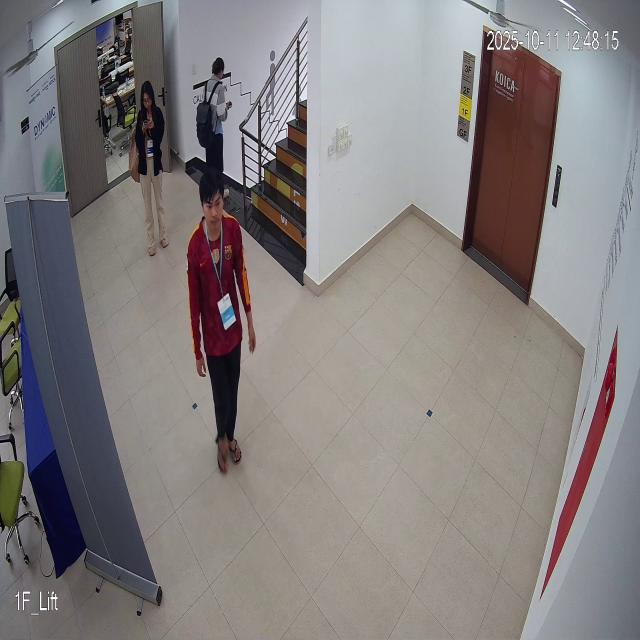face: (192, 166, 230, 240)
